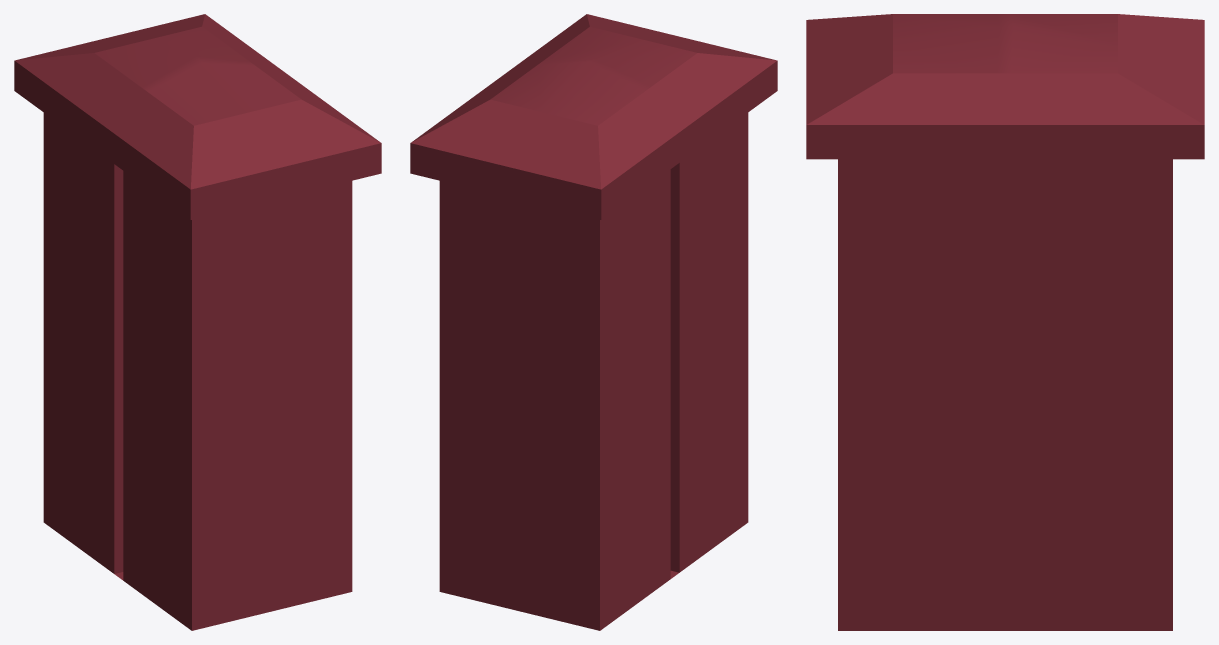
Rendered from danger box.fbx.
3 renders of one model, left to right at view 1: azimuth 30°, elevation 25°; view 2: azimuth 150°, elevation 25°; view 3: azimuth 270°, elevation 25°, orthographic. The views are drawn at different scales.
Parts seen in each view (by area): view 1: pCube41; view 2: pCube41; view 3: pCube41.
Part boxes in pixels (left/top/right/bottom): pCube41: left=14, top=14, right=381, bottom=630; pCube41: left=410, top=14, right=777, bottom=630; pCube41: left=806, top=14, right=1204, bottom=630.
Bounding box in the file's own units: 51.48 × 128 × 82.43.
